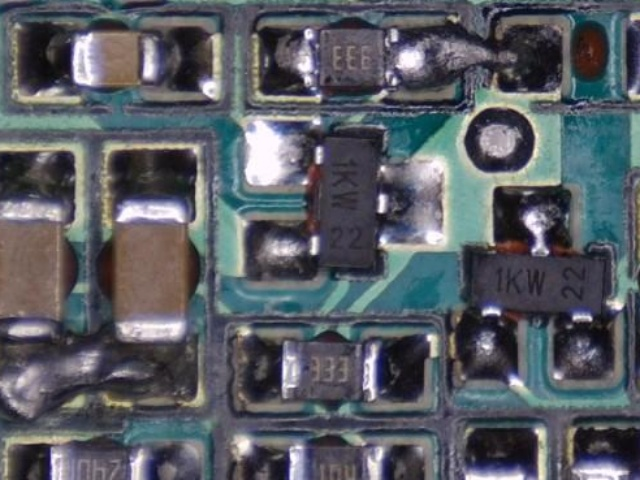pcb_defect: (384, 24, 563, 93)
